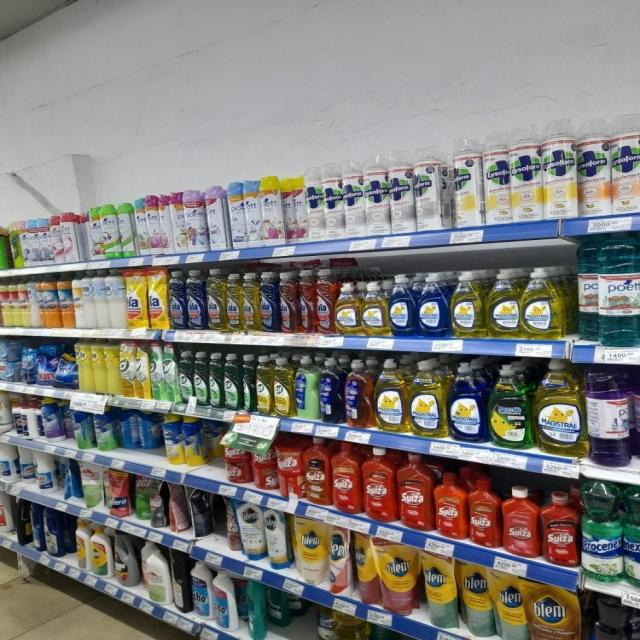ala_conc_amarillo: (207, 269, 224, 331), (226, 272, 242, 332), (243, 272, 259, 332)
ala_conc_azul: (187, 269, 206, 331), (260, 271, 278, 333), (168, 270, 186, 330)
ala_conc_rojo: (315, 268, 334, 334), (279, 270, 297, 334), (298, 270, 314, 334)
ala_crem_blanco: (108, 270, 125, 329)
ala_sachet_amarillo: (126, 268, 147, 328), (148, 268, 167, 329)
cif_conc_bot_amarilla: (273, 356, 293, 417), (256, 354, 272, 414)
cif_conc_botella_verde: (223, 353, 240, 410), (241, 353, 255, 412), (193, 351, 208, 405), (178, 351, 192, 404), (209, 352, 222, 408), (164, 344, 176, 403)
magistral_con_amarillo: (535, 359, 585, 456), (409, 359, 447, 438), (522, 266, 563, 339), (374, 358, 408, 432), (487, 267, 521, 338), (451, 270, 484, 338), (361, 280, 388, 336), (335, 282, 360, 335)
magistral_con_azul: (448, 361, 486, 442), (417, 271, 449, 338), (389, 273, 416, 337)
zorro: (344, 358, 372, 428)
